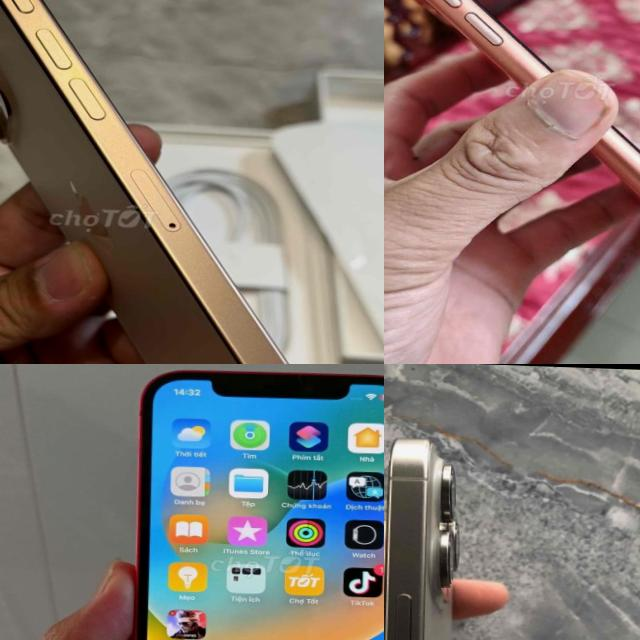gen_12_13: (126, 369, 384, 640)
gen_15: (384, 426, 481, 640)
gen_16: (0, 0, 288, 364)
gen_x_xs: (421, 0, 572, 103), (592, 126, 640, 198)
